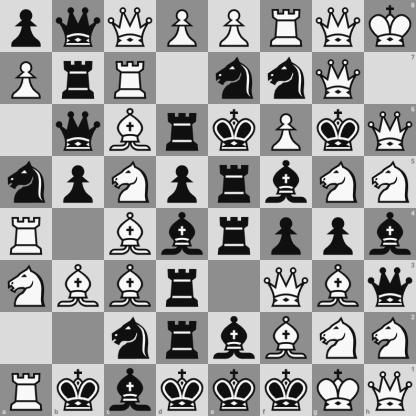B: (53, 261, 104, 312), (105, 105, 156, 156), (105, 209, 156, 260), (105, 261, 156, 312), (261, 313, 312, 364), (313, 261, 364, 312)
K: (312, 364, 364, 416), (364, 0, 416, 52)
N: (364, 156, 416, 209), (364, 312, 416, 364), (1, 261, 52, 312), (105, 157, 156, 208), (313, 157, 364, 208), (313, 313, 364, 364)
P: (1, 53, 52, 104), (157, 1, 208, 52), (209, 1, 260, 52), (261, 105, 312, 156)
Q: (364, 104, 416, 156), (364, 364, 416, 416), (105, 1, 156, 52), (261, 261, 312, 312), (313, 1, 364, 52), (313, 53, 364, 104)
R: (0, 364, 52, 416), (1, 209, 52, 260), (105, 53, 156, 104), (261, 1, 312, 52)
b: (104, 364, 156, 416), (364, 209, 416, 260), (157, 209, 208, 260), (209, 313, 260, 364), (261, 157, 312, 208)
board: (0, 0, 415, 415)
k: (156, 364, 209, 416), (52, 364, 104, 416), (260, 364, 312, 416), (209, 364, 260, 416), (209, 105, 260, 156), (313, 105, 364, 156)
n: (1, 157, 52, 208), (105, 313, 156, 364), (209, 53, 260, 104), (261, 53, 312, 104)
p: (1, 1, 52, 52), (53, 157, 104, 208), (157, 157, 208, 208), (261, 209, 312, 260), (313, 209, 364, 260)
q: (364, 260, 416, 312), (53, 1, 104, 52), (53, 105, 104, 156)
r: (53, 53, 104, 104), (157, 105, 208, 156), (157, 261, 208, 312), (157, 313, 208, 364), (209, 157, 260, 208), (209, 209, 260, 260)
